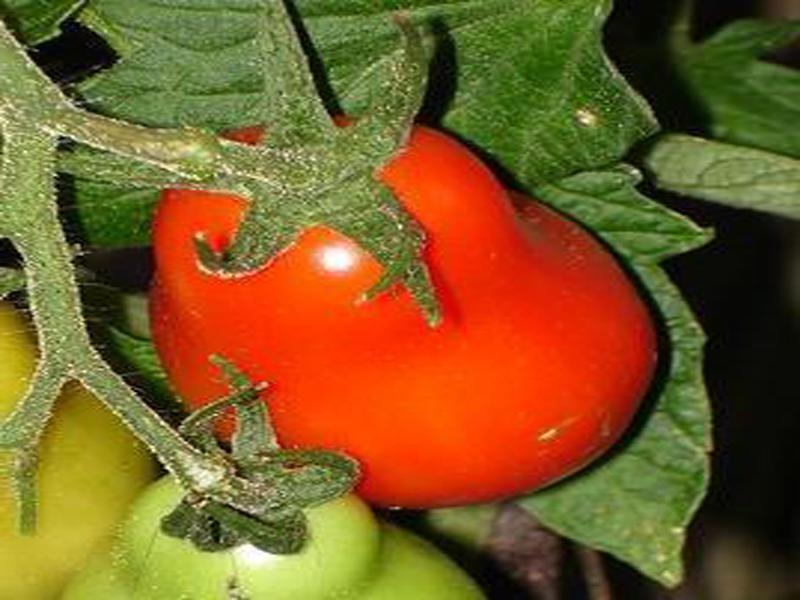Tomato: (154, 117, 659, 507)
